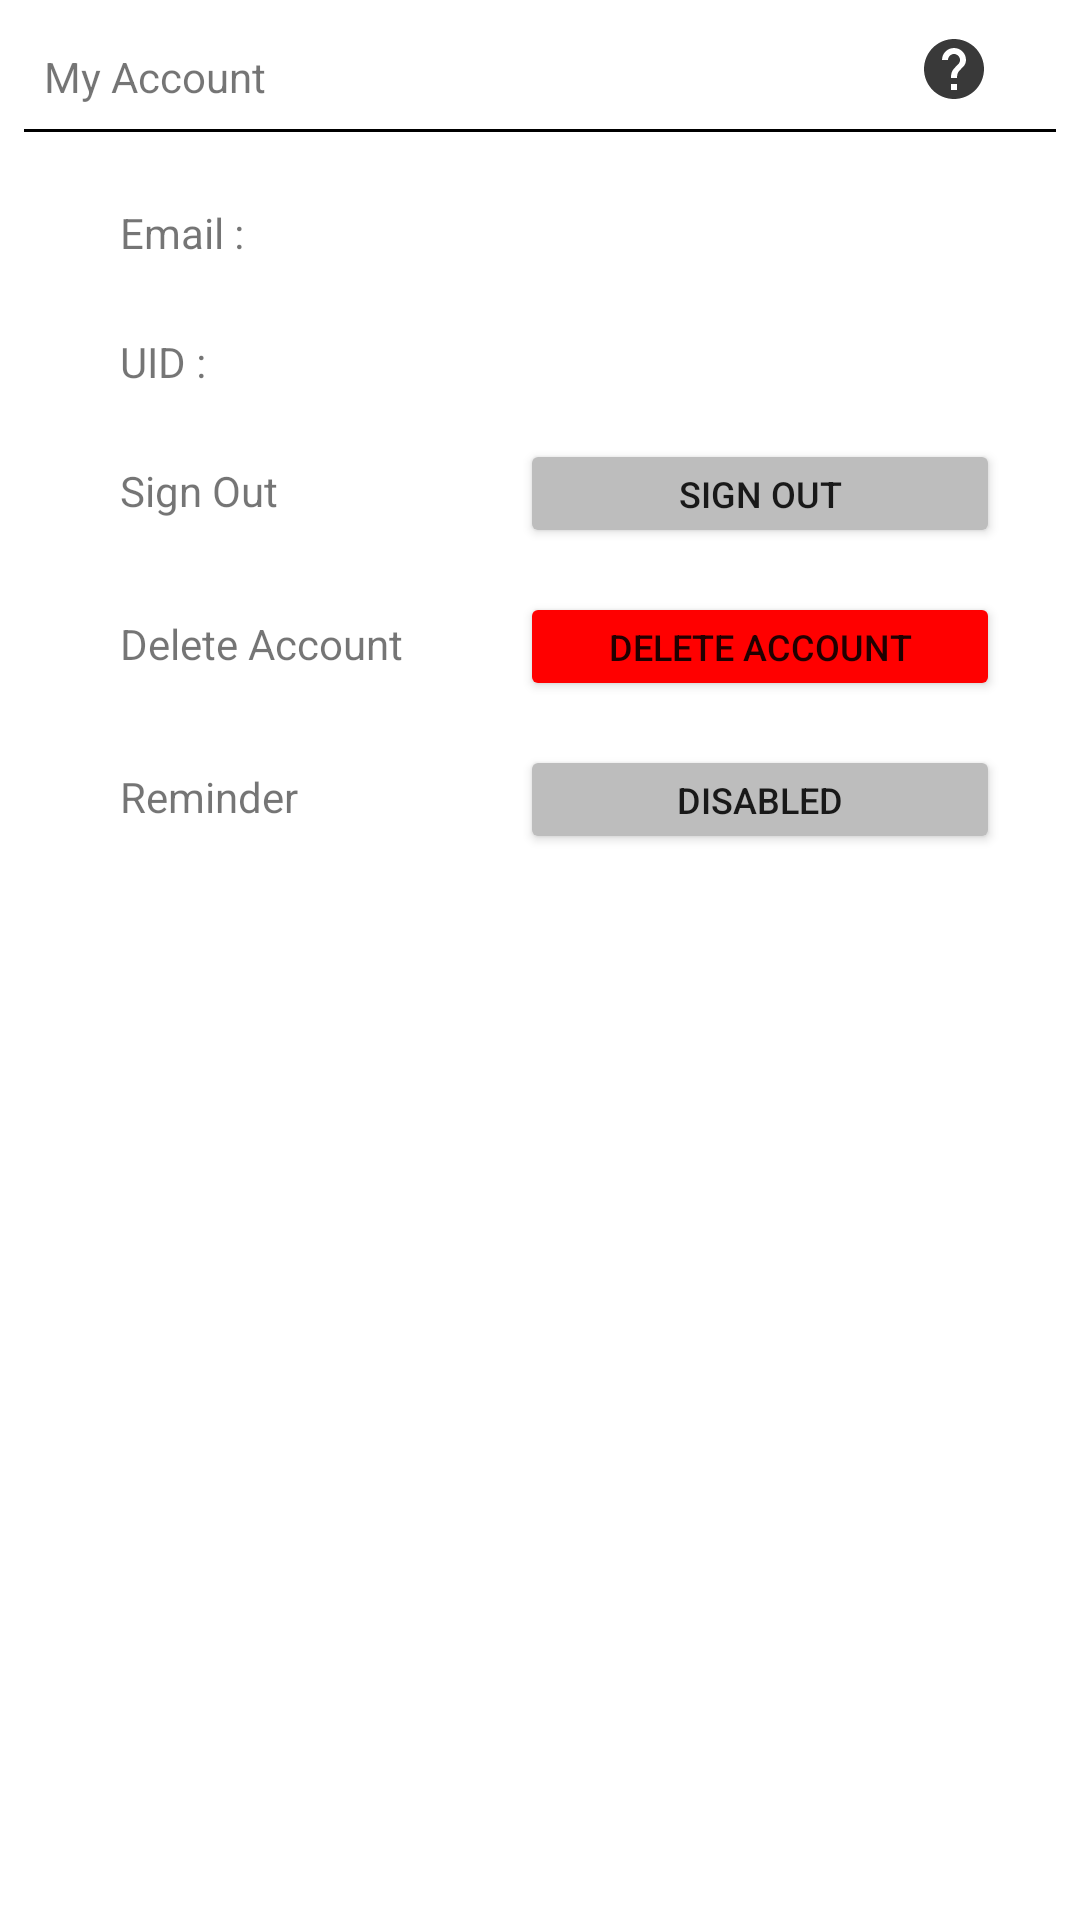

Screen size 1080px×1920px. Icon name, then its center in pixels as [x,y]:
help: [954,69]
